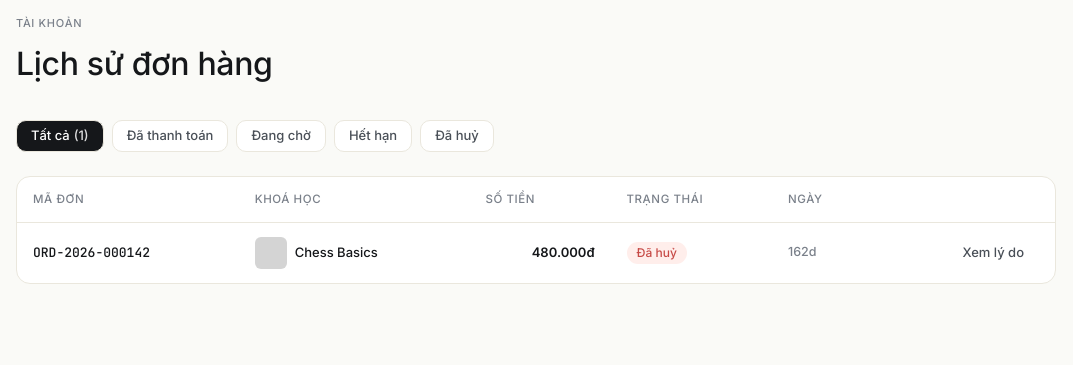
Scenario: AccountOrdersPage › contextual action per status › Cancelled → "Xem lý do" reveals own-cancel reason
What coordinates should you click on to do the following:
click the button with test id "action-reveal-ord-cancel"
I would click on:
 (993, 253)
Its box is x1=947 y1=237 x2=1039 y2=269.
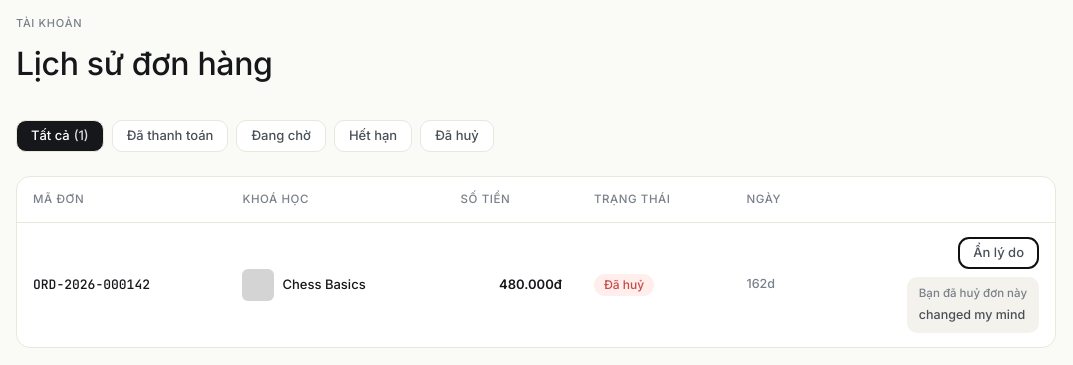
Expected: the element with test id "cancel-reveal-ord-cancel" shows "Bạn đã huỷ đơn này", x1=919 y1=286 x2=1027 y2=300
Expected: the element with test id "cancel-reveal-ord-cancel" shows "changed my mind", x1=919 y1=307 x2=1025 y2=322
